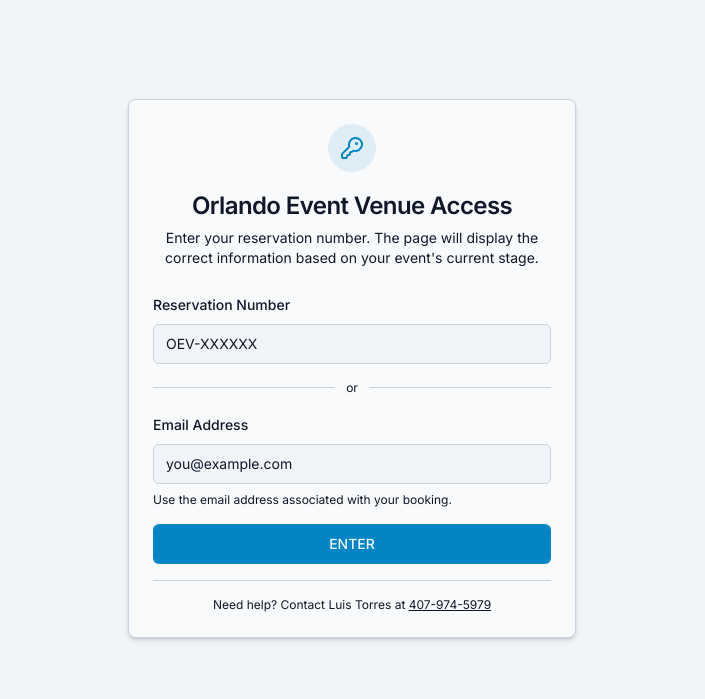
Test: AccessCode — STATE 1 (before access is available) › shows the not-available message with reservation details when code is null
This screenshot has width=705, height=699.
In the field labelled "Reservation Number": (352, 344) [153,324,551,364], type "OEV-TEST01"
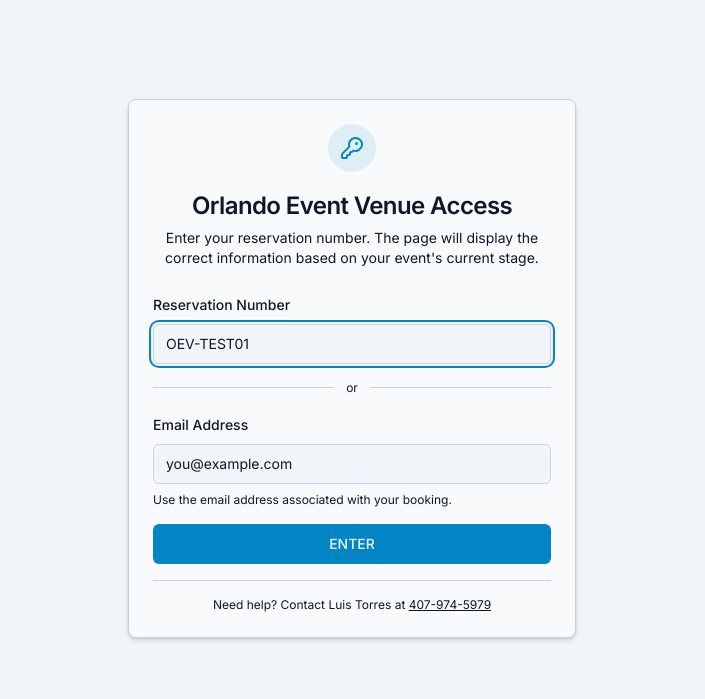
Click the button "ENTER": (352, 544) [153,524,551,564]
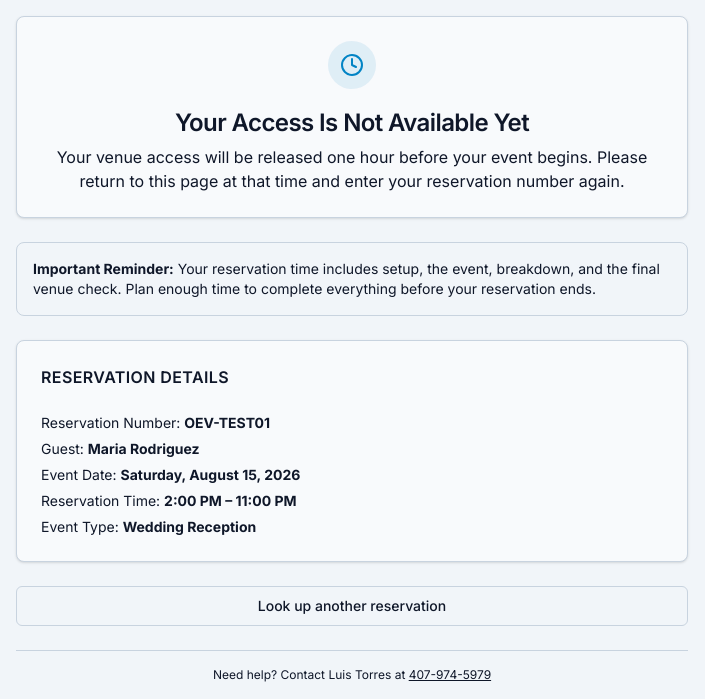
Result: the text "Your Access Is Not Available Yet" is shown at [175,108,529,137]
Result: the text "released one hour before your event begins" is shown at [57,147,647,191]
Result: the text "Important Reminder:" is shown at [33,260,174,277]
